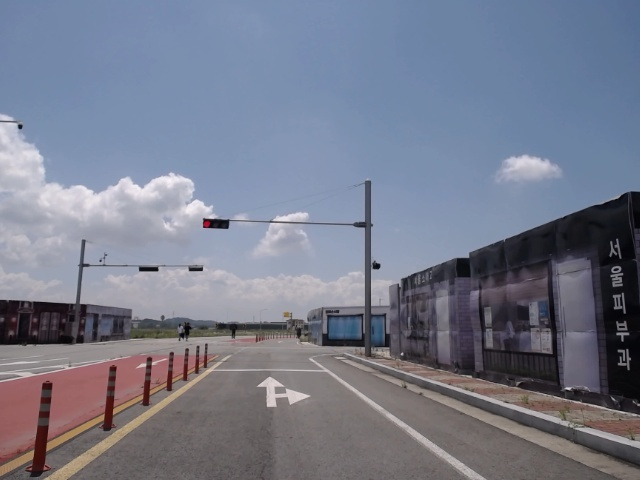red_3: (200, 217, 231, 230)
